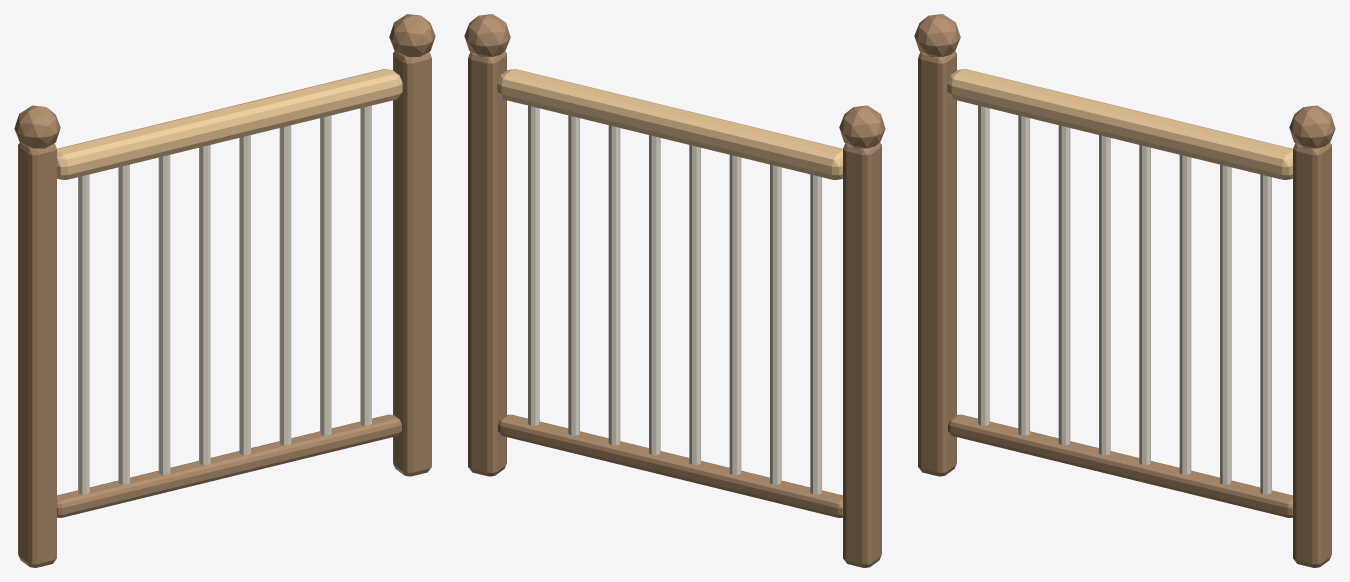
File: cozy-home-interiors-stair-landing-rail-1m-2b3d9a34.glb
The picture shows the model from 3 angles, left to right: view 1: azimuth 30°, elevation 25°; view 2: azimuth 150°, elevation 25°; view 3: azimuth 330°, elevation 25°; orthographic projection.
Parts seen in each view (by area): view 1: stair-landing-rail-1m; view 2: stair-landing-rail-1m; view 3: stair-landing-rail-1m.
Boxes of the visible parts, x1,y1,x2,y2 form: stair-landing-rail-1m: [14, 14, 435, 567]; stair-landing-rail-1m: [464, 14, 885, 567]; stair-landing-rail-1m: [914, 14, 1335, 567].
Bounding box in the file's own units: 1.03 × 1.08 × 0.0999.
